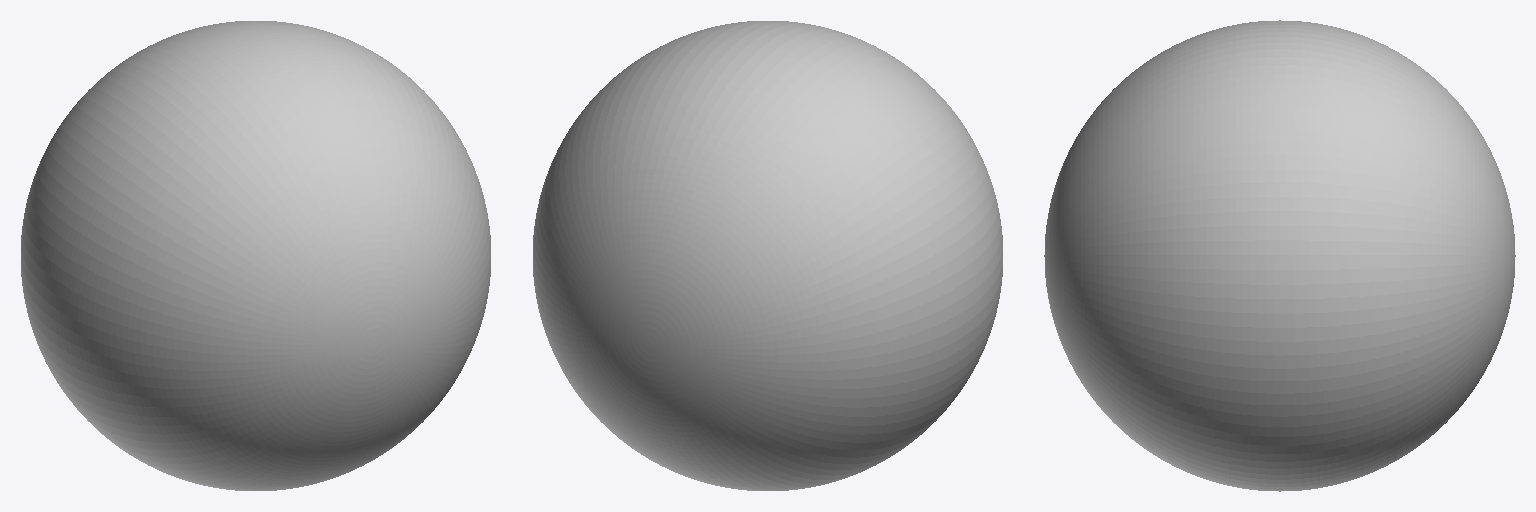
The model's file is Earth.obj.
3 renders of one model, left to right at view 1: azimuth 30°, elevation 25°; view 2: azimuth 150°, elevation 25°; view 3: azimuth 270°, elevation 25°, orthographic.
Parts seen in each view (by area): view 1: node_id49; view 2: node_id49; view 3: node_id49.
Boxes of the visible parts, box(x1,y1,x2,y2) form: node_id49: box(21, 21, 490, 490); node_id49: box(533, 21, 1002, 490); node_id49: box(1044, 20, 1515, 491).
Size of the model in its own units: 0.0357 by 0.0357 by 0.0357.